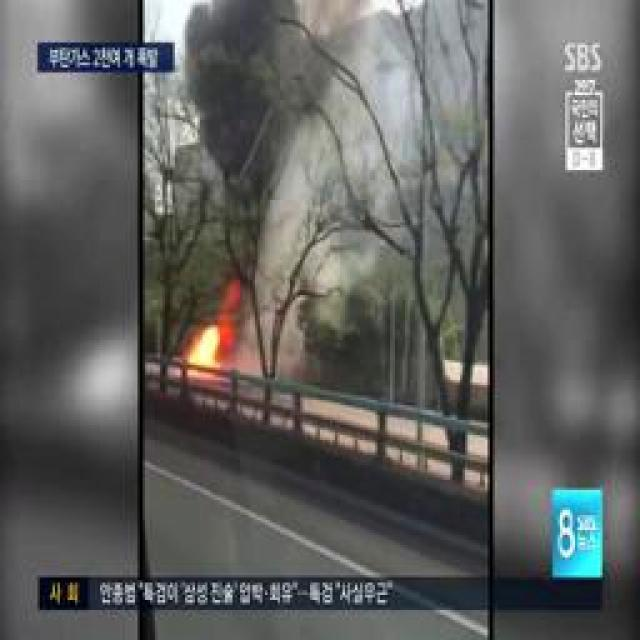Fire: (190, 328, 240, 374)
